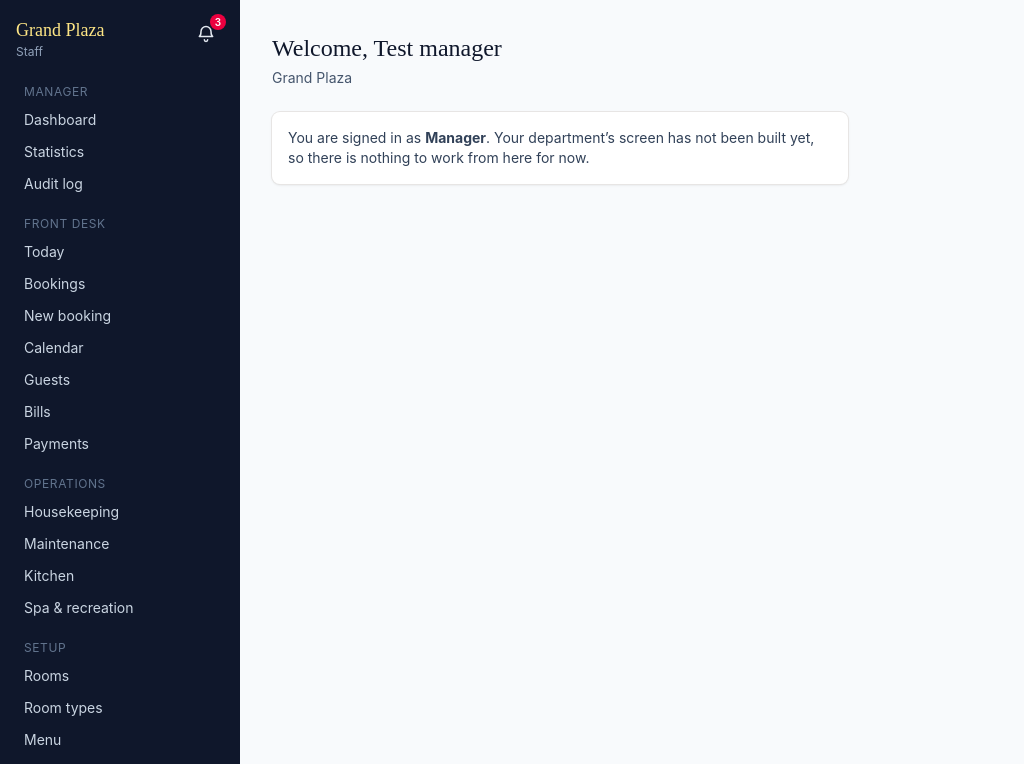
the notification bell › marks everything read and removes the badge
The image size is (1024, 764).
Step 1. Click the button named "Notifications" → click(206, 34), box 188,16 -> 224,52
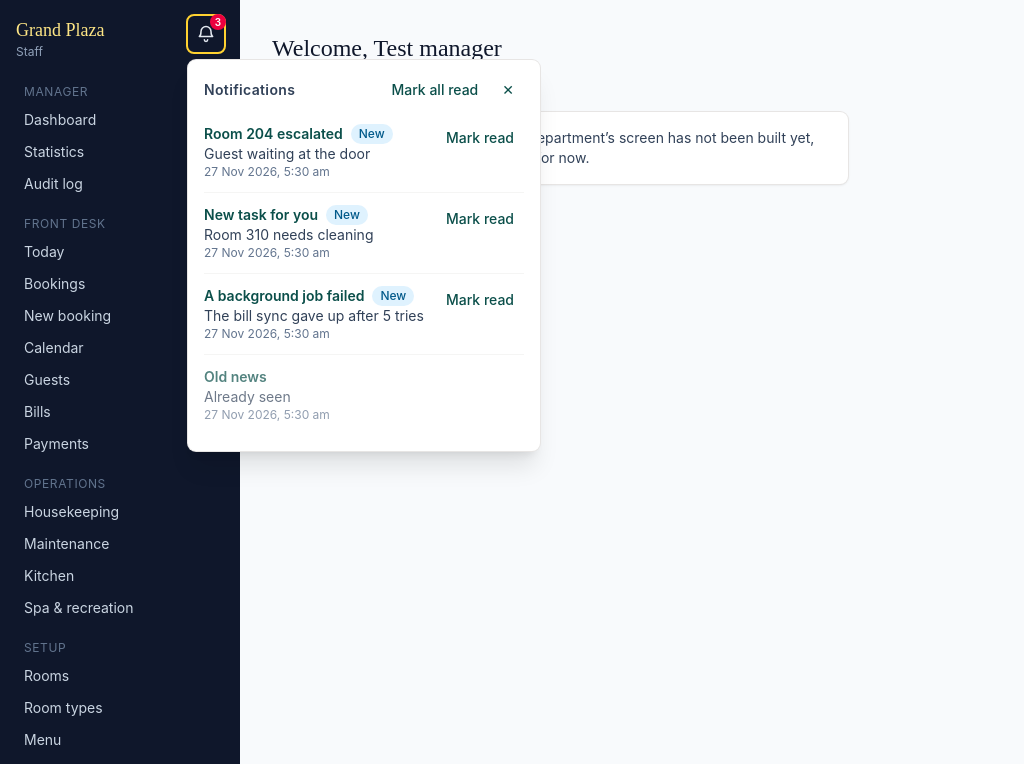
Step 2. Click the button "Mark all read" → click(435, 90), box 382,76 -> 488,104
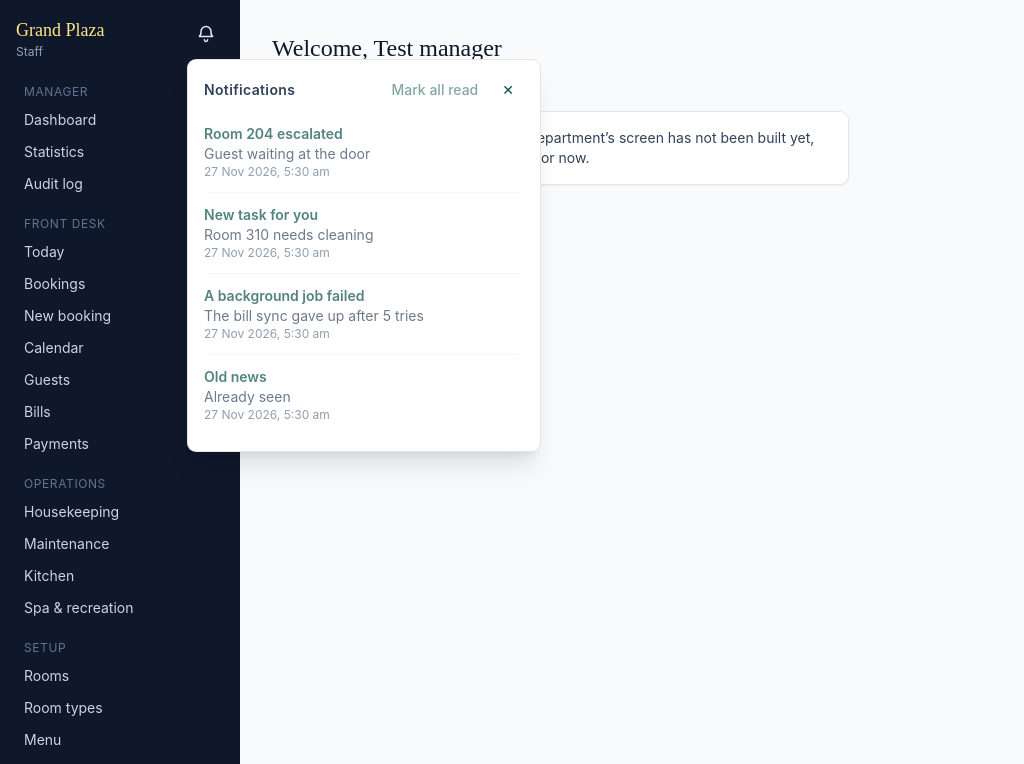
expect the button named "Notifications" is shown: met, box 188,16 -> 224,52
expect the button "Mark all read" is disabled: met, box 382,76 -> 488,104
